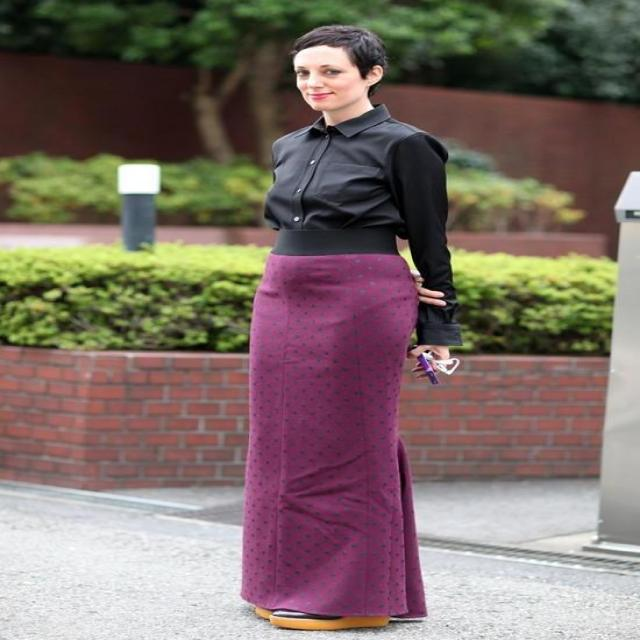shirt: (266, 104, 462, 346)
skirt: (238, 253, 430, 621)
